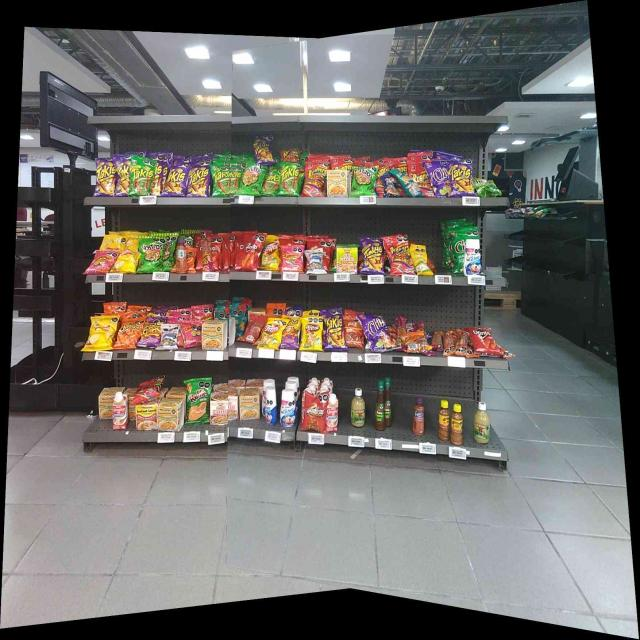bitzEnchilado90: (346, 316, 362, 348)
bitzEnchilado95: (456, 330, 466, 355), (444, 333, 453, 355)
bitzHabanero: (202, 230, 212, 272), (396, 317, 406, 351), (432, 330, 443, 350)
bokadosCacahuates: (383, 175, 398, 197)
botaneraChilito: (451, 403, 463, 445), (439, 400, 449, 441)
cheetosFlaminHot: (282, 317, 299, 348), (142, 320, 160, 348)
cheetosOriginal: (119, 320, 139, 348)
chipsFuego: (366, 315, 389, 350), (432, 160, 448, 197)
chipsPapatinas: (475, 178, 498, 196)
churrumais: (283, 246, 302, 272), (93, 251, 114, 273), (182, 322, 200, 346)
delPrimoSalsa: (474, 402, 490, 443), (351, 388, 366, 427)
doritosNacho: (240, 234, 260, 270), (474, 328, 496, 356)
fritosLimon: (302, 318, 322, 352), (263, 318, 280, 348), (263, 240, 279, 269)
leoCacahuates: (308, 249, 324, 274), (161, 325, 176, 349)
maruchanPollo: (158, 398, 184, 430), (203, 320, 226, 350), (240, 389, 260, 420), (327, 170, 349, 196)
maruchanRes: (137, 405, 157, 430)
nestleCarnation: (113, 395, 128, 430), (327, 395, 338, 431)
nestleLechera: (464, 239, 481, 275), (281, 389, 296, 426), (266, 387, 277, 425)
nissinCamaron: (337, 245, 357, 274)
nissinRes: (210, 393, 228, 425)
productoAtras: (407, 333, 427, 352), (245, 317, 260, 342)
rancheritos: (305, 394, 326, 432)
rufflesQueso: (188, 380, 209, 423)
runners: (389, 236, 411, 274), (306, 162, 324, 196), (136, 377, 160, 397), (418, 162, 432, 196), (282, 148, 300, 161)
sabritasOriginal: (91, 318, 112, 349), (118, 240, 136, 272)
salsaBufalo: (374, 380, 384, 431), (384, 378, 392, 428)
semillasCalabaza: (415, 246, 428, 274)
semillasGirasol: (400, 174, 418, 196)
tajinDulce: (412, 396, 424, 435), (177, 238, 187, 274)
takisFuego: (450, 160, 473, 197), (325, 310, 344, 350), (362, 238, 383, 274), (96, 158, 114, 196), (189, 161, 207, 197), (166, 166, 186, 196), (116, 158, 129, 196), (256, 134, 272, 160)
takisOriginal: (131, 156, 152, 195), (212, 164, 230, 197), (282, 163, 298, 196), (265, 168, 279, 195)
tostitos: (140, 236, 162, 272), (243, 161, 260, 195), (354, 168, 374, 195)
